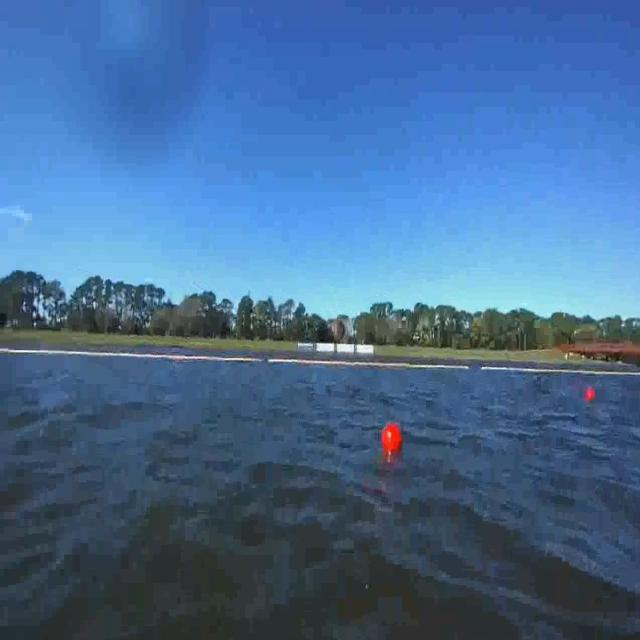red-buoy: (380, 423, 399, 451), (586, 387, 596, 402)
